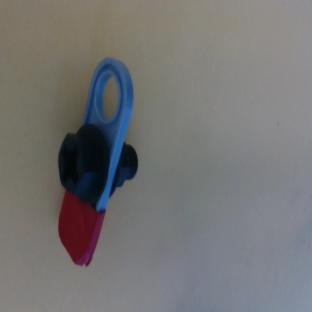part_1_good: (19, 53, 175, 270)
